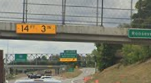1: (20, 23, 24, 33)
3: (39, 23, 46, 34)
4: (23, 23, 30, 34)
overheadsign: (13, 22, 57, 35)
